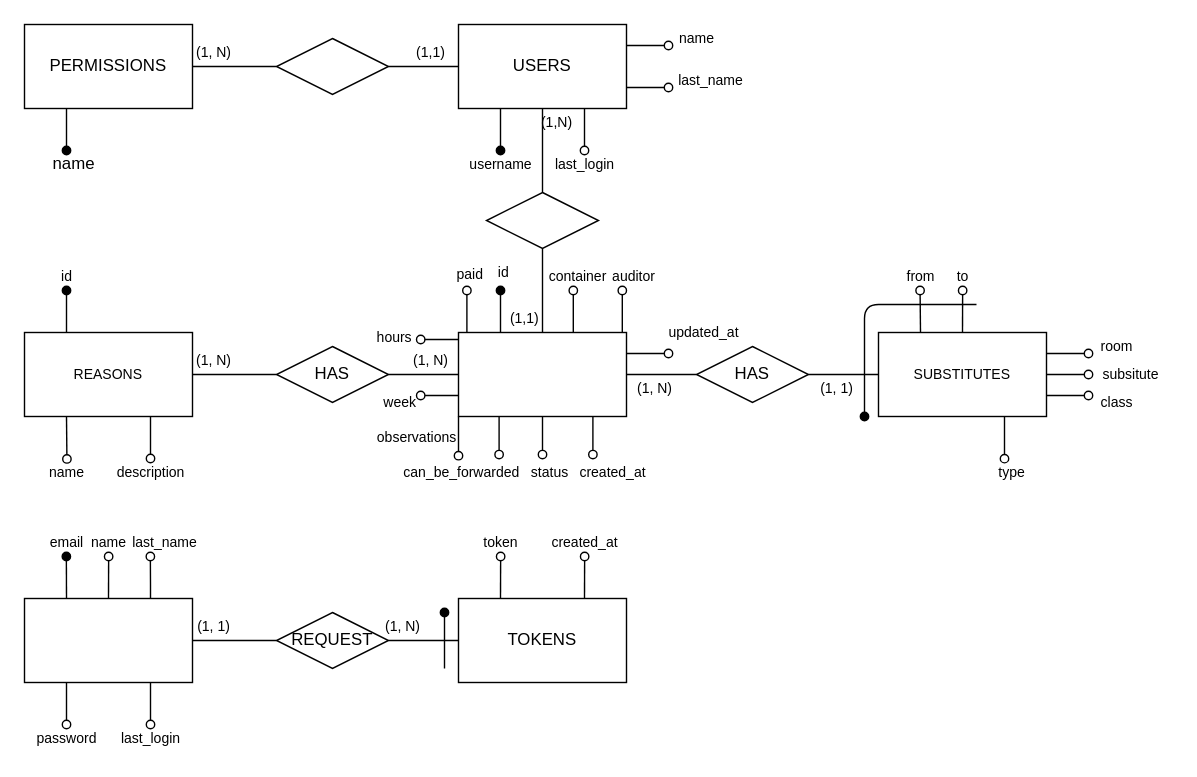
The diagram is 1197 pixels wide and 777 high, and some of its shapes have lost their labels. Here are the shapes that lost their labels. From the top down, the centre of each, then its label:
[331,65]: IS
[541,219]: CREATE
[541,373]: REQUESTS
[107,639]: ADMINISTRATORS
